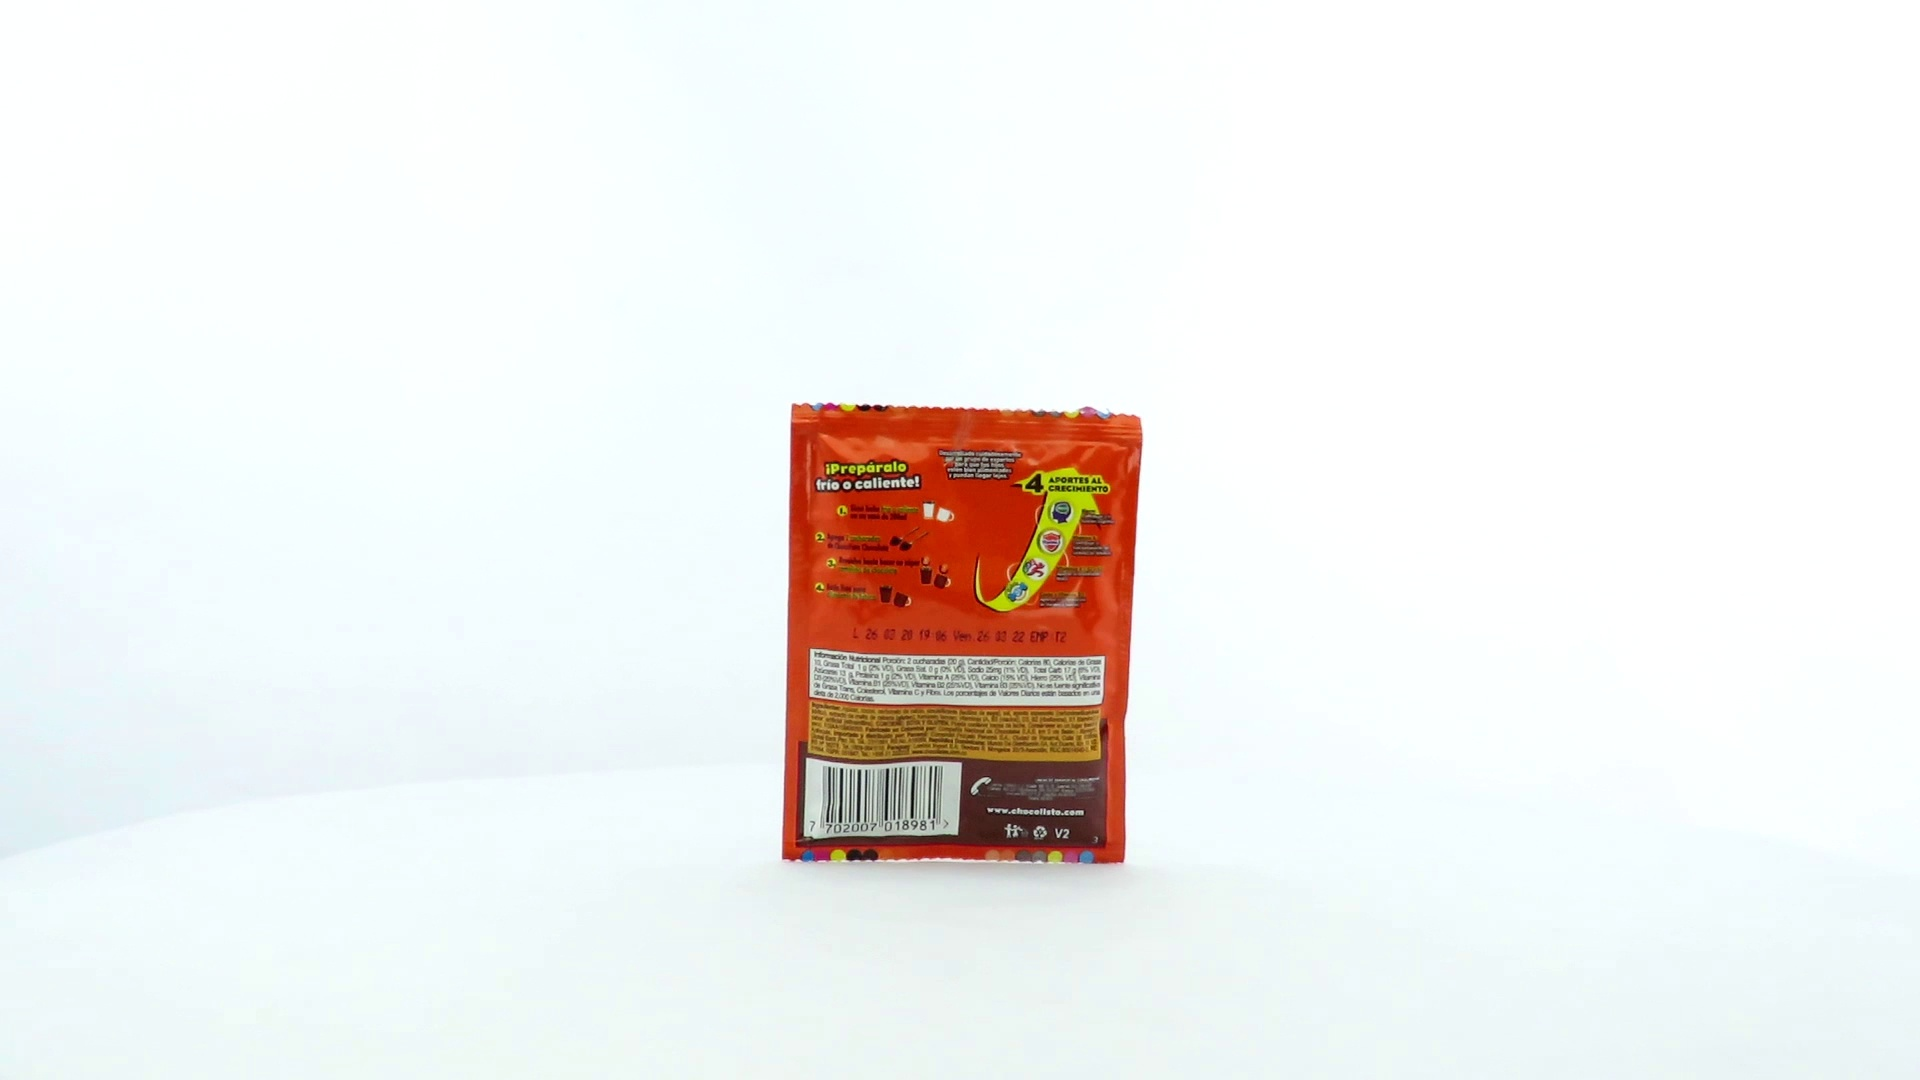COL0170103SOB02000: (777, 397, 1149, 874)
